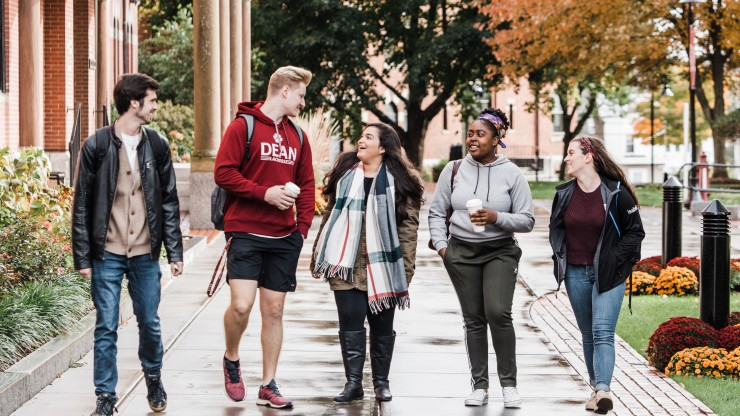Person: (62, 78, 195, 416), (210, 67, 328, 416), (543, 145, 654, 393), (432, 115, 532, 389), (321, 118, 414, 385)
